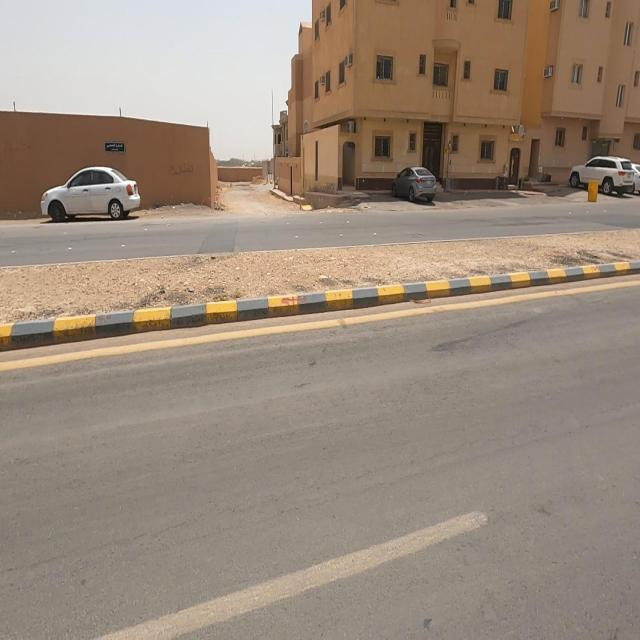Graffiti: (169, 161, 195, 179), (397, 164, 403, 175), (472, 166, 478, 175), (363, 164, 368, 173), (452, 166, 457, 175), (489, 166, 493, 176), (383, 164, 387, 173)
